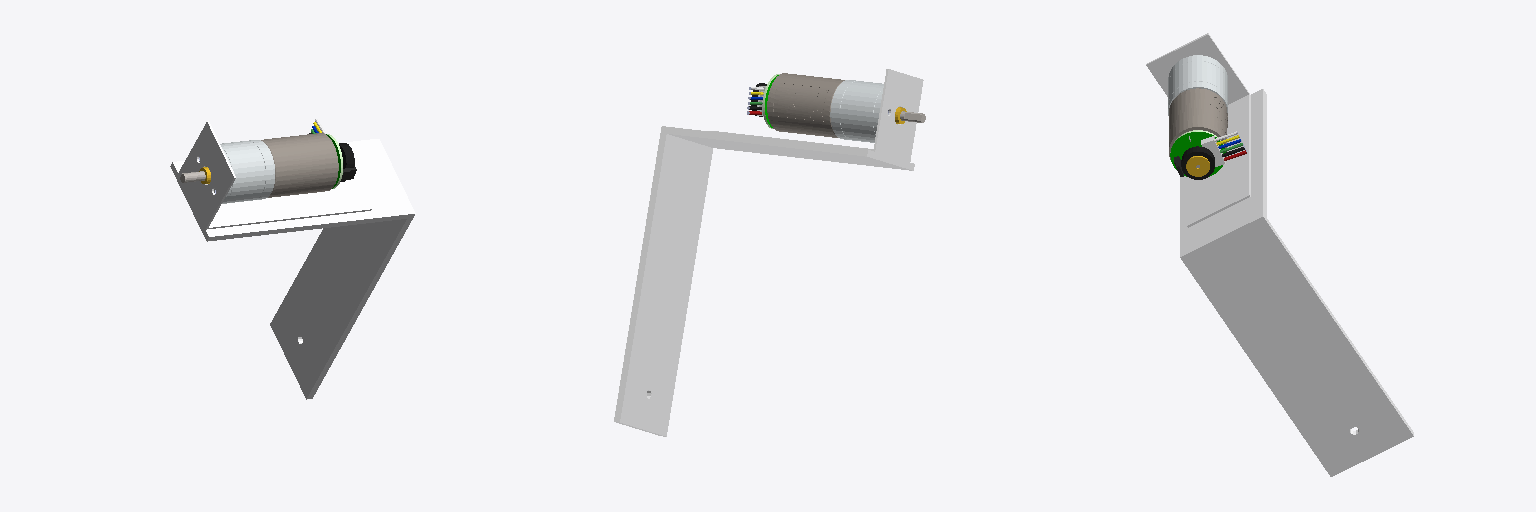
The model's file is Manipulator_Sterowniki_Robotow_II_czlon.obj.
3 renders of one model, left to right at view 1: azimuth 30°, elevation 25°; view 2: azimuth 150°, elevation 25°; view 3: azimuth 270°, elevation 25°, orthographic.
Parts seen in each view (by area): view 1: Solid1, Solid1:2, Solid1:1; view 2: Solid1, Solid1:2, Solid1:1; view 3: Solid1, Solid1:2, Solid1:1.
Boxes of the visible parts, box(x1,y1,x2,y2) form: Solid1: box(170, 139, 415, 399); Solid1:2: box(180, 119, 356, 203); Solid1:1: box(178, 121, 371, 229); Solid1: box(614, 126, 914, 436); Solid1:2: box(747, 73, 925, 142); Solid1:1: box(710, 69, 923, 161); Solid1: box(1180, 89, 1413, 476); Solid1:2: box(1168, 55, 1246, 179); Solid1:1: box(1146, 33, 1250, 227).
Bounding box in the file's own units: 110 × 167 × 112.